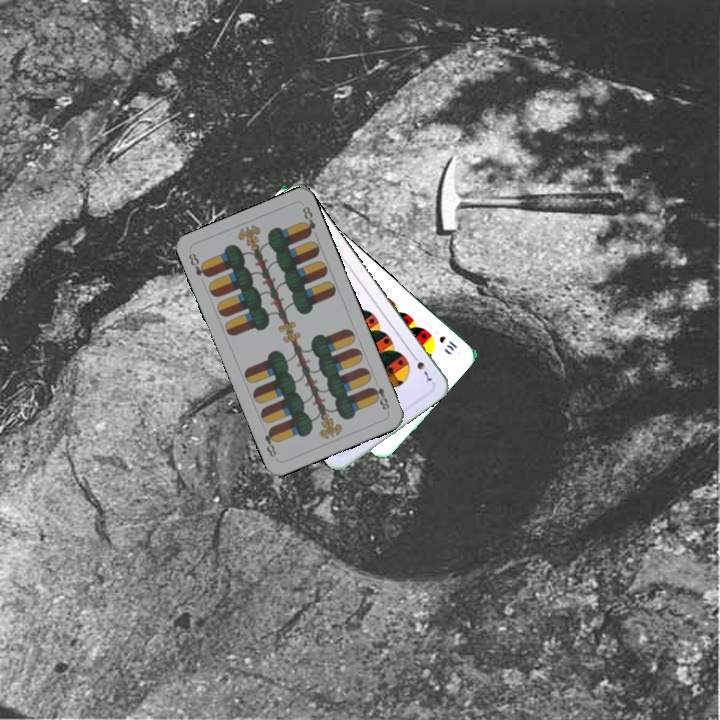E8: (184, 249, 212, 280), (367, 382, 392, 413)
S10: (435, 332, 460, 354)
S7: (408, 350, 435, 386)
